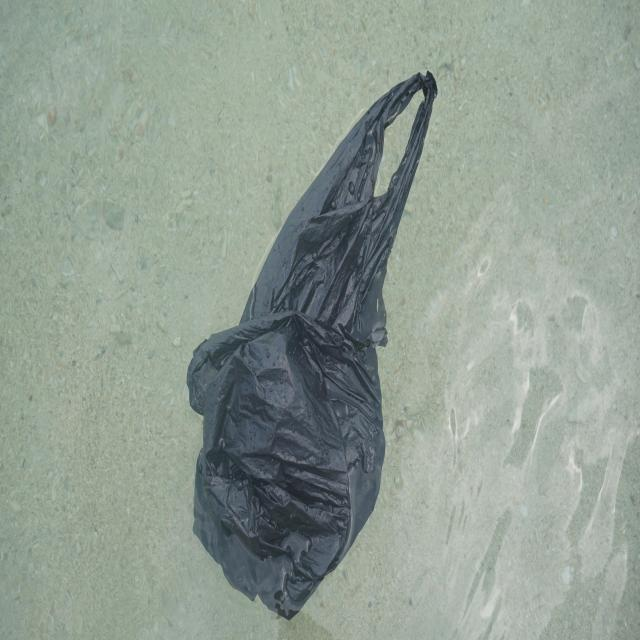Kantong Plastik: (184, 66, 443, 624)
